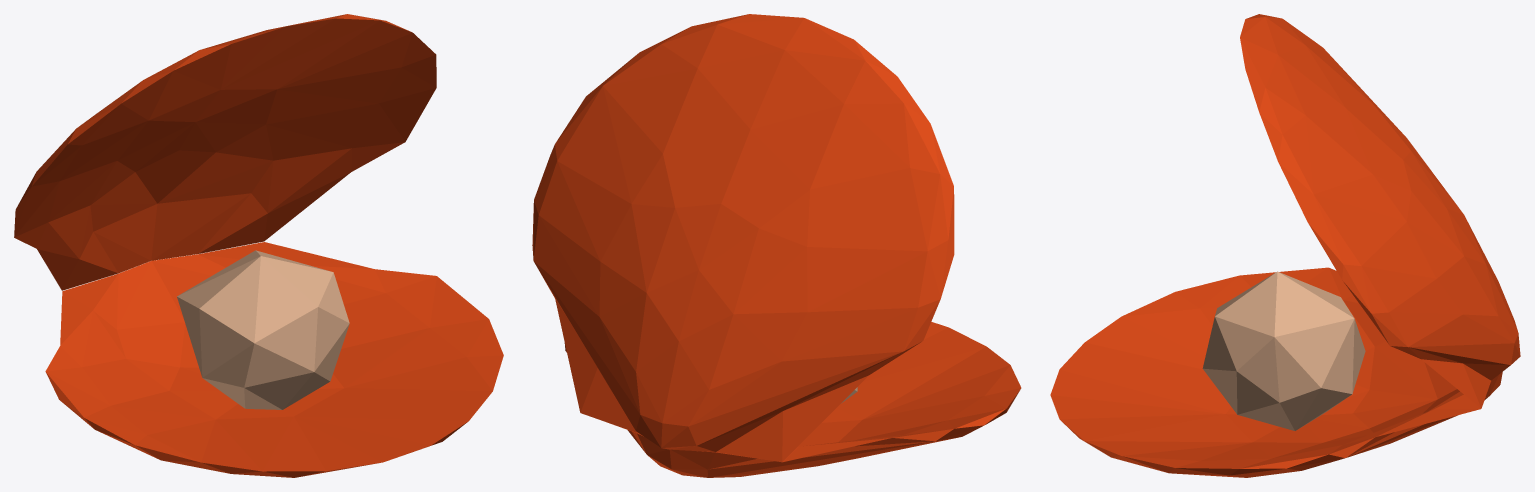
The model's file is Shell_04.fbx.
3 renders of one model, left to right at view 1: azimuth 30°, elevation 25°; view 2: azimuth 150°, elevation 25°; view 3: azimuth 270°, elevation 25°, orthographic. The views are drawn at different scales.
Parts seen in each view (by area): view 1: Shell_04; view 2: Shell_04; view 3: Shell_04.
Part boxes in pixels (bbox=[...]): Shell_04: bbox=[14, 14, 503, 477]; Shell_04: bbox=[532, 14, 1021, 477]; Shell_04: bbox=[1050, 14, 1520, 477].
Size of the model in its own units: 270 by 253 by 275.
